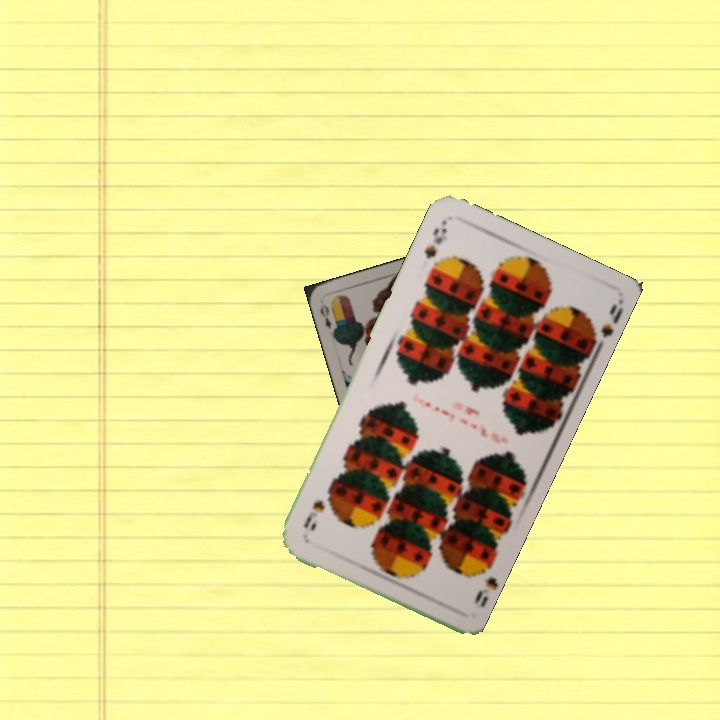EO: (316, 300, 334, 332)
S9: (469, 555, 495, 609), (420, 217, 450, 262)
